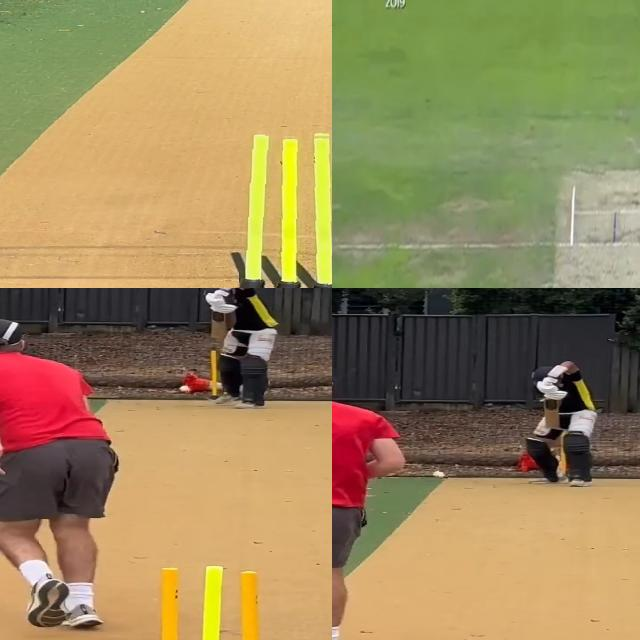Cricket ball: (430, 470, 448, 479), (179, 384, 194, 394)
Stumps: (238, 131, 332, 288), (138, 563, 276, 640)
